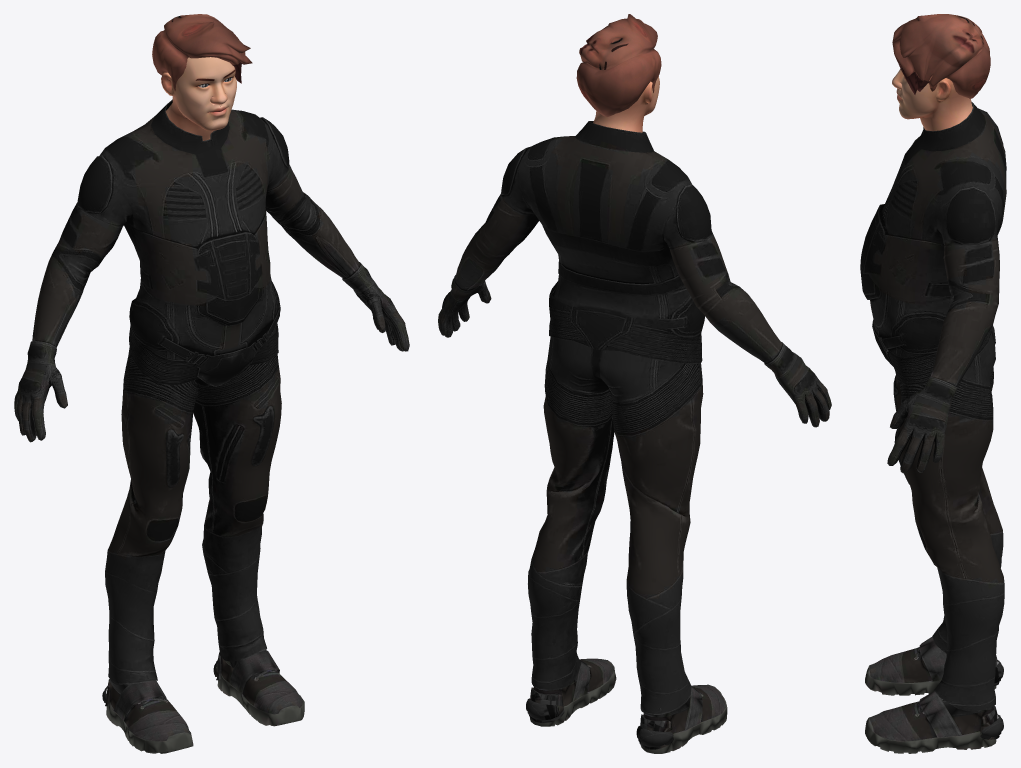
File: Fat_Character_Costume_1.glb
The picture shows the model from 3 angles, left to right: view 1: azimuth 30°, elevation 25°; view 2: azimuth 150°, elevation 25°; view 3: azimuth 270°, elevation 25°; orthographic projection.
Parts seen in each view (by area): view 1: Outfit_Top.001, Outfit_Top, Head.005, Outfit_Top.003, Outfit_Top.002, Head.008; view 2: Outfit_Top.001, Outfit_Top, Head.008, Outfit_Top.003, Outfit_Top.002, Head.005; view 3: Outfit_Top.001, Outfit_Top, Head.008, Outfit_Top.002, Outfit_Top.003, Head.005.
Part boxes in pixels (box(x1,y1,x2,y2)): Outfit_Top.001: box(14, 99, 409, 442); Outfit_Top: box(102, 347, 281, 706); Head.005: box(161, 57, 236, 140); Outfit_Top.003: box(106, 679, 193, 753); Outfit_Top.002: box(217, 649, 304, 726); Head.008: box(152, 14, 252, 91); Outfit_Top.001: box(438, 121, 831, 427); Outfit_Top: box(526, 337, 703, 749); Head.008: box(576, 14, 661, 116); Outfit_Top.003: box(641, 684, 727, 753); Outfit_Top.002: box(530, 658, 616, 726); Head.005: box(593, 76, 659, 132); Outfit_Top.001: box(860, 101, 1006, 473); Outfit_Top: box(893, 325, 1004, 739); Head.008: box(892, 14, 990, 98); Outfit_Top.002: box(865, 691, 996, 753); Outfit_Top.003: box(865, 637, 996, 695); Head.005: box(892, 69, 972, 131).
Bounding box in the file's own units: 1.07 × 1.87 × 0.3546.
6 materials, 6 textured.
